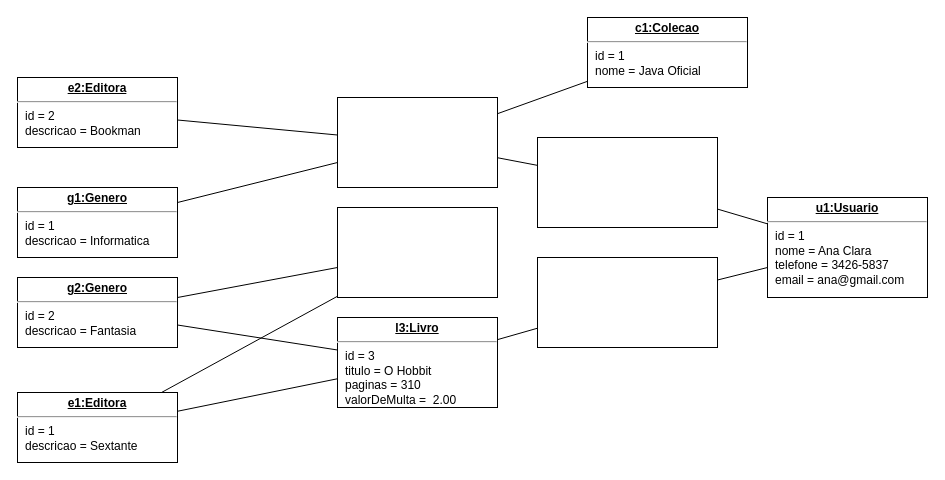
Some shapes in this 945 by 480 pixel diagram are drawn without their labels. The centre of each missing label's shape, as x and y in pixels:
emp1:Emprestimo id = 1 dataEmprestimo = 30/09/2017 dataDevolucao = 02/10/2017: (627,182)
emp2:Emprestimo id = 2 dataEmprestimo = 25/08/2017 dataDevolucao = 30/08/2017: (627,302)
l1:Livro id = 1 titulo = Core Java paginas = 320 valorDeMulta = 2.00: (417,142)
l2:Livro id = 2 titulo = Senhor dos Anéis paginas = 1100 valorDeMulta = 3.00: (417,252)
